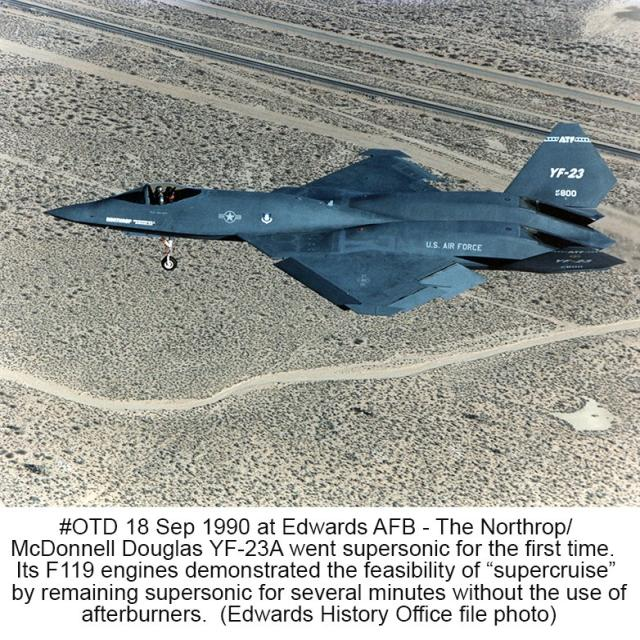MIL_Plane: (41, 0, 626, 175)
